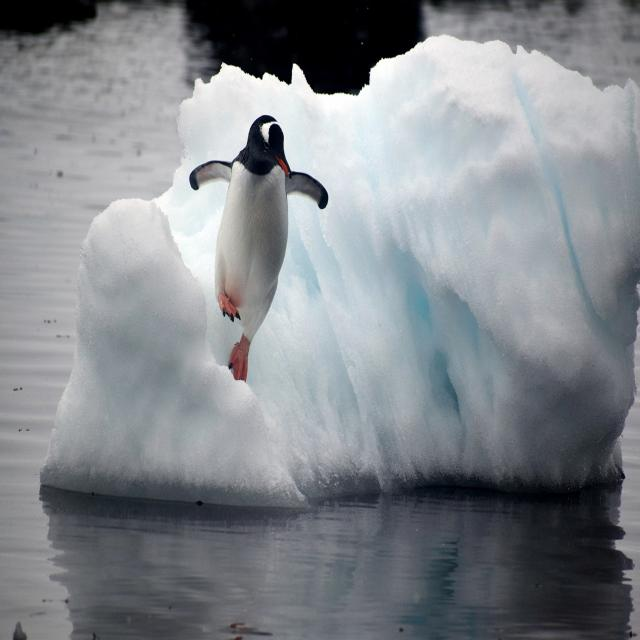Penguins: (193, 110, 330, 388)
